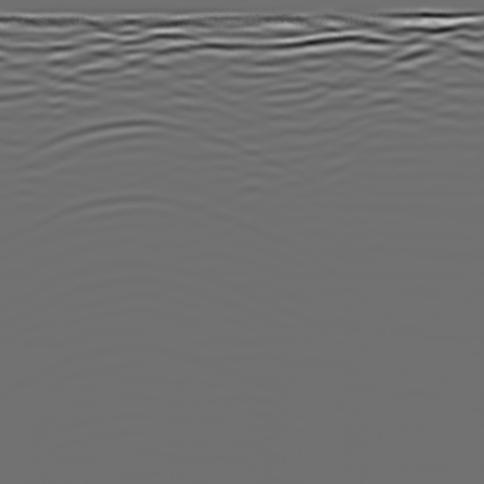hyperbola: (0, 104, 267, 255)
